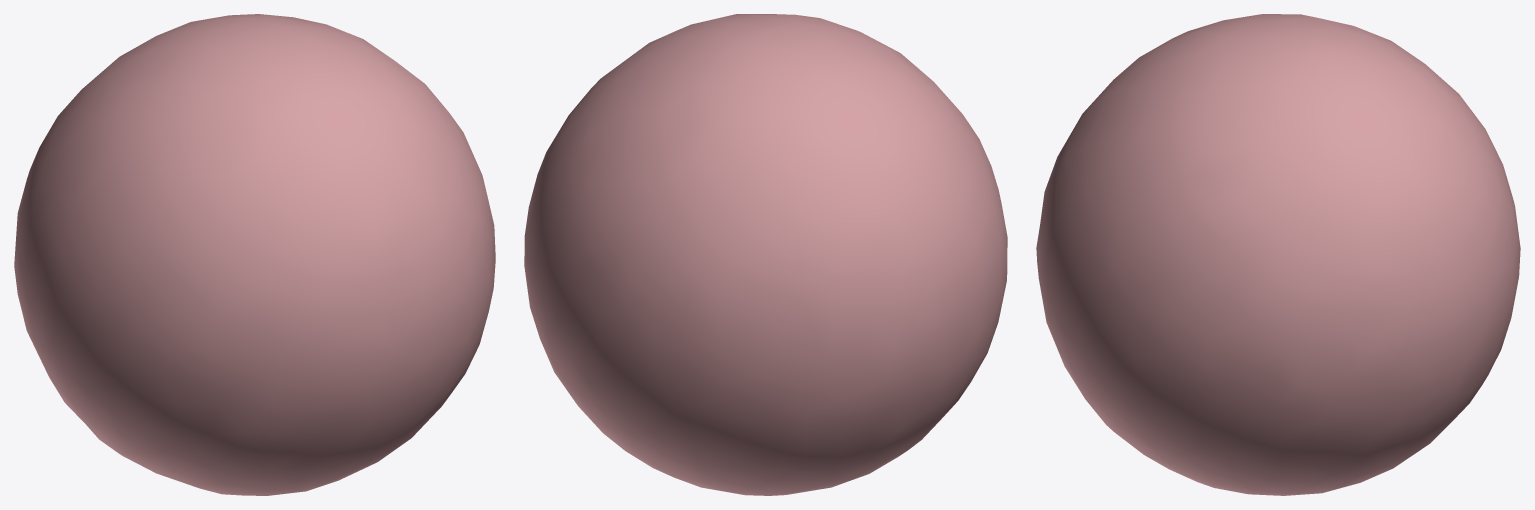
Rendered from fma54810_mm841m.glb.
3 views of the same model, side by side, from view 1: azimuth 30°, elevation 25°; view 2: azimuth 150°, elevation 25°; view 3: azimuth 270°, elevation 25° (orthographic).
Parts seen in each view (by area): view 1: FMA54810_MM841M; view 2: FMA54810_MM841M; view 3: FMA54810_MM841M.
Part boxes in pixels (<box>): FMA54810_MM841M: <box>14,14,495,495</box>; FMA54810_MM841M: <box>524,14,1007,495</box>; FMA54810_MM841M: <box>1036,14,1520,495</box>.
Bounding box in the file's own units: 0.00859 × 0.00856 × 0.0086.
